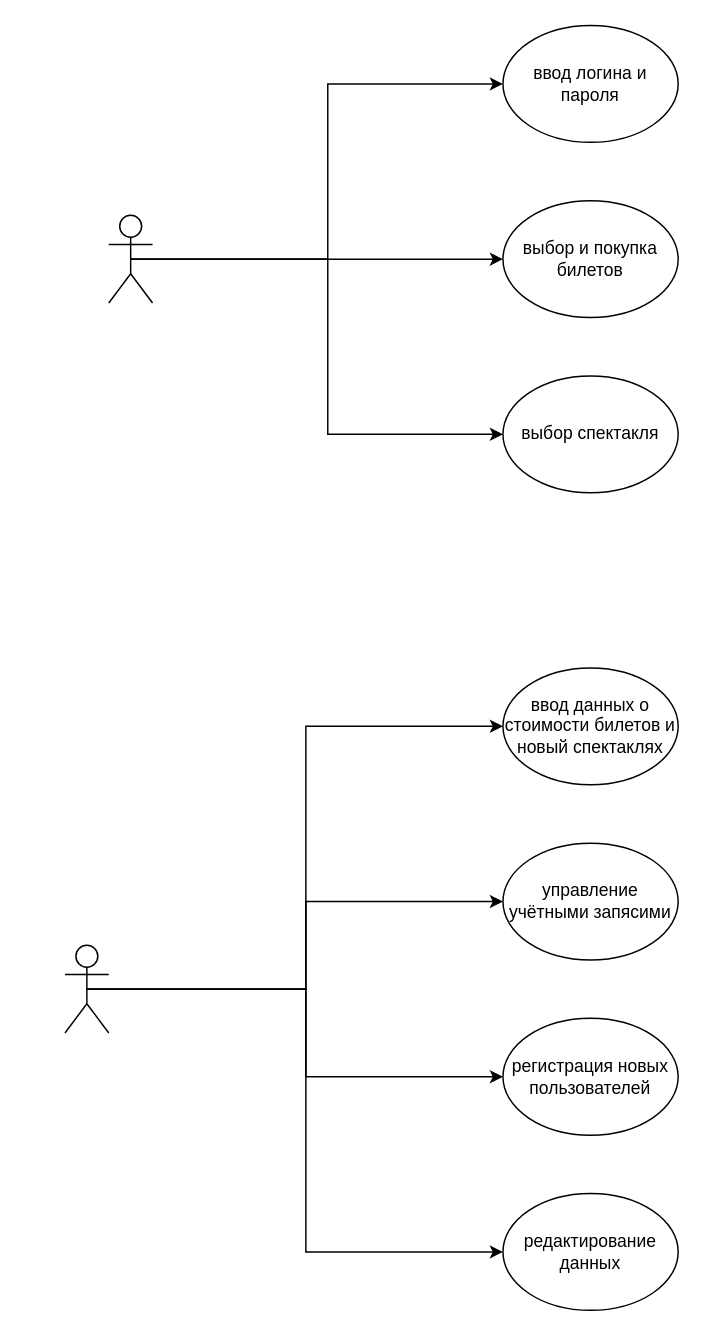
Image size: 704x1336. Some labels were removed from this diagram. The centre of each missing label's shape, as x and y in pixels:
"администратор" belongs at (x=86, y=988).
"пользователь" belongs at (x=130, y=258).
